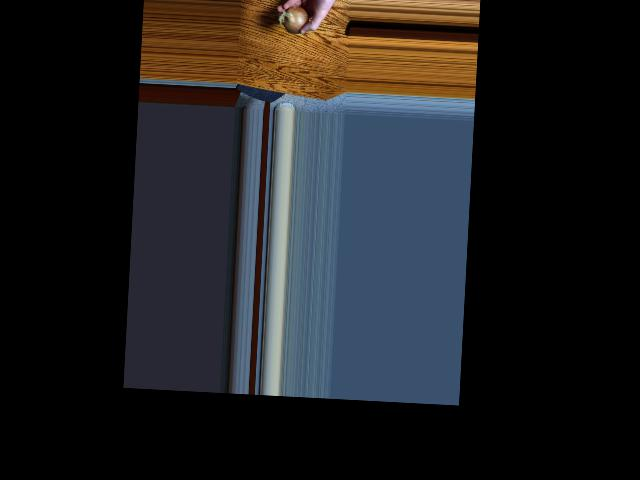onion: (283, 3, 309, 34)
